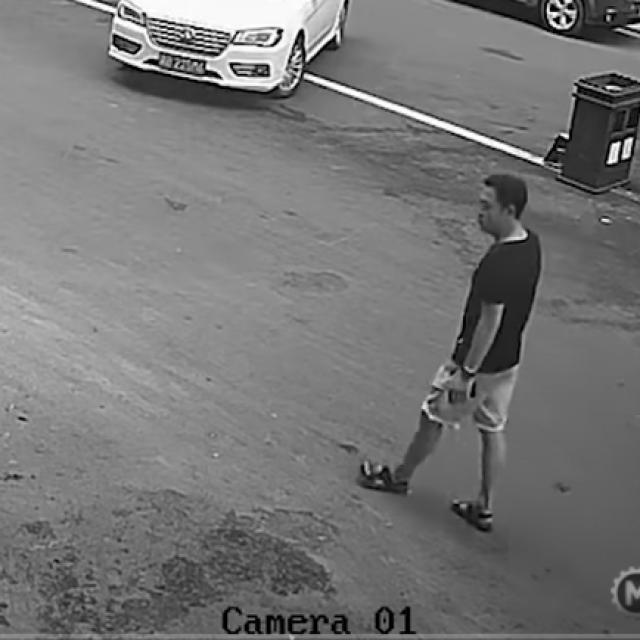Invader: (355, 170, 543, 533)
